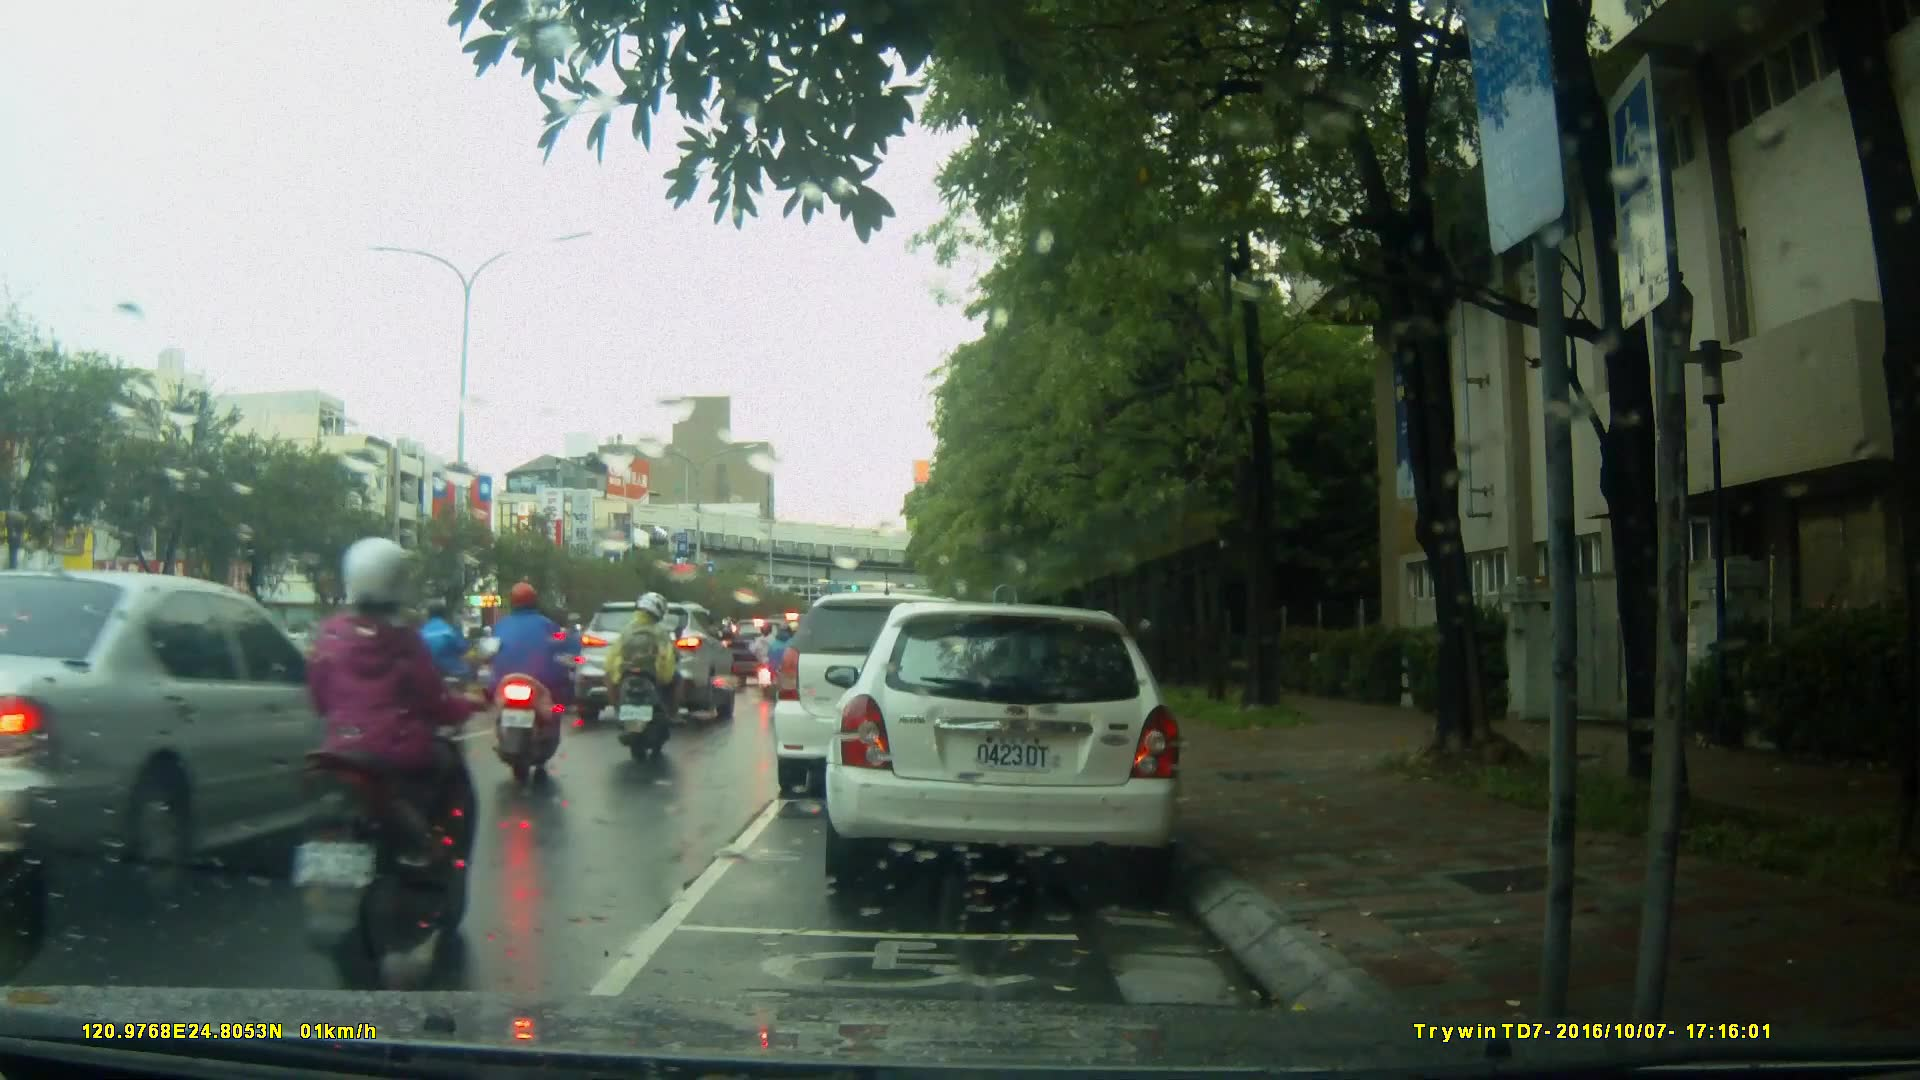rider: (288, 535, 479, 974), (496, 579, 576, 777), (604, 593, 684, 768), (416, 598, 486, 719), (545, 607, 596, 701), (759, 617, 813, 705), (754, 622, 789, 702)
vehicle: (1, 569, 414, 922), (822, 604, 1188, 883), (774, 595, 995, 802), (572, 600, 737, 725)
